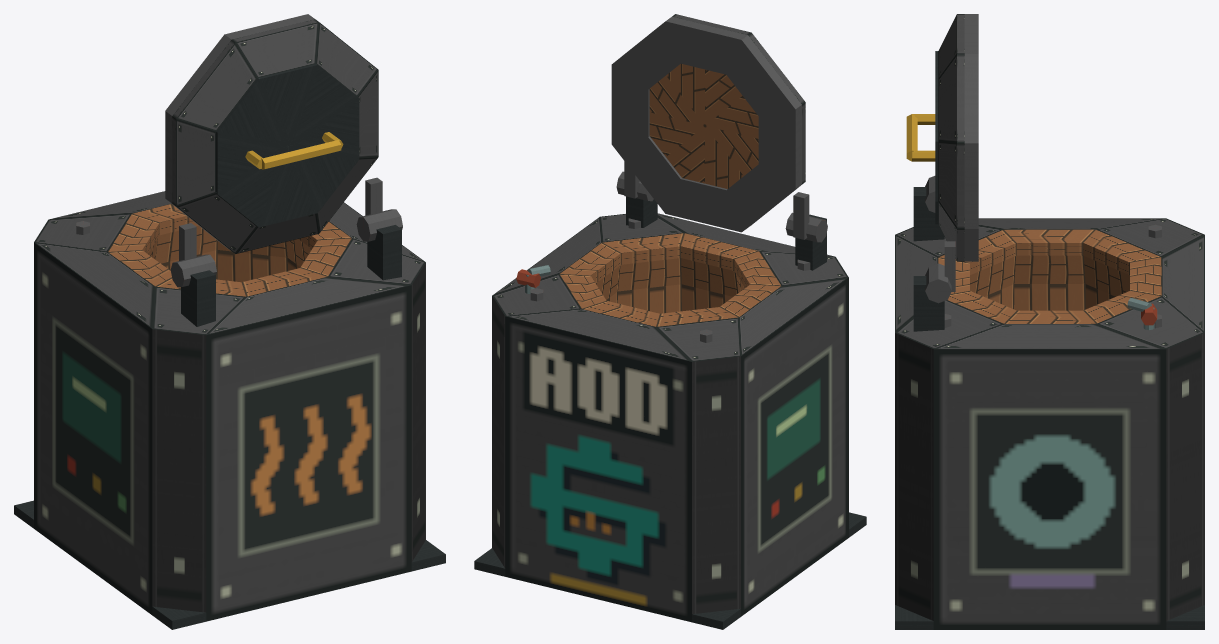
File: small_aod_tungsten_open.obj
3 renders of one model, left to right at view 1: azimuth 30°, elevation 25°; view 2: azimuth 150°, elevation 25°; view 3: azimuth 270°, elevation 25°, orthographic. The views are drawn at different scales.
Visible parts, largest first — view 1: contact_south, lid, contact_west, cut_corners, shoulder, rim, hinge, lining, sole_edge; view 2: contact_north, lid, contact_west, shoulder, cut_corners, rim, lining, hinge, sole_edge, gas_trim; view 3: contact_east, cut_corners, shoulder, lid, rim, lining, hinge, sole_edge, gas_trim.
Boxes of the visible parts, bbox=[...] form: contact_south: bbox=[206, 285, 411, 621]; lid: bbox=[165, 14, 382, 260]; contact_west: bbox=[34, 242, 152, 614]; cut_corners: bbox=[152, 263, 425, 612]; shoulder: bbox=[34, 191, 425, 335]; rim: bbox=[108, 204, 351, 296]; hinge: bbox=[170, 209, 402, 326]; lining: bbox=[148, 226, 311, 282]; sole_edge: bbox=[14, 500, 445, 629]; contact_north: bbox=[505, 316, 691, 622]; lid: bbox=[611, 14, 809, 239]; contact_west: bbox=[741, 277, 848, 616]; shoulder: bbox=[492, 213, 848, 361]; cut_corners: bbox=[492, 296, 740, 614]; rim: bbox=[559, 233, 781, 326]; lining: bbox=[596, 258, 744, 313]; hinge: bbox=[616, 171, 827, 270]; sole_edge: bbox=[474, 512, 866, 629]; gas_trim: bbox=[516, 265, 550, 293]; contact_east: bbox=[933, 349, 1166, 629]; cut_corners: bbox=[895, 333, 1204, 620]; shoulder: bbox=[895, 218, 1204, 349]; lid: bbox=[906, 14, 978, 291]; rim: bbox=[938, 229, 1161, 323]; lining: bbox=[970, 255, 1129, 310]; hinge: bbox=[913, 176, 951, 331]; sole_edge: bbox=[895, 605, 1204, 629]; gas_trim: bbox=[1127, 298, 1157, 330].
Size of the model in its own units: 1 by 1.89 by 1.
14 materials, 14 textured.
